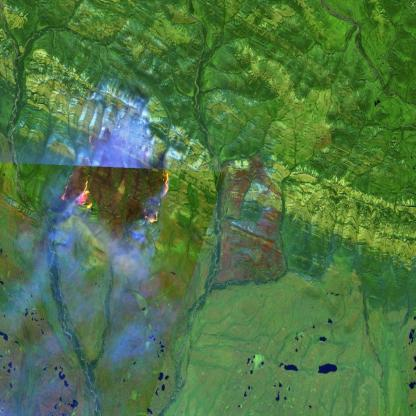fire: (140, 167, 174, 226), (55, 170, 97, 214)
